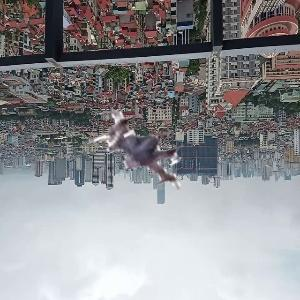drone: (78, 98, 199, 219)
